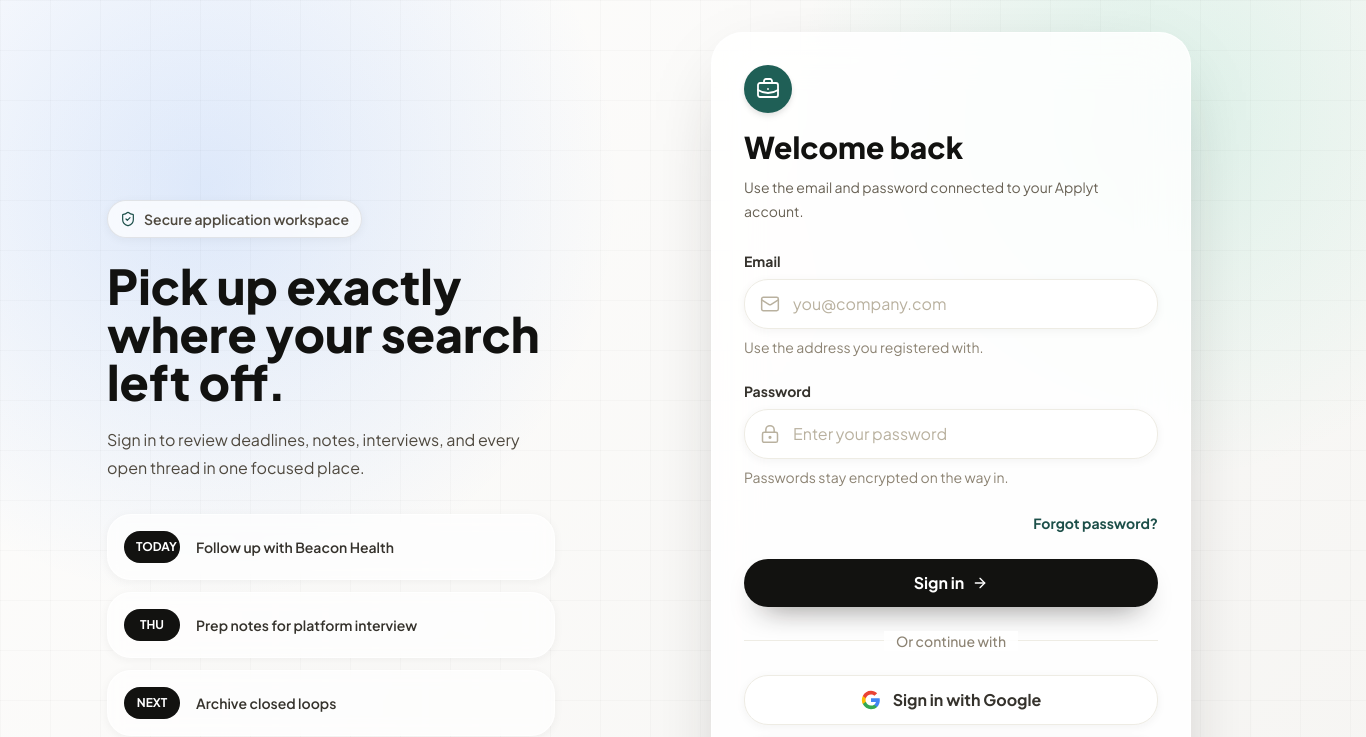
Test case: Login › rejects a malformed email
This screenshot has width=1366, height=737.
In the field with placeholder "you@company.com": (951, 304) [744, 278, 1158, 328], type "not-an-email"
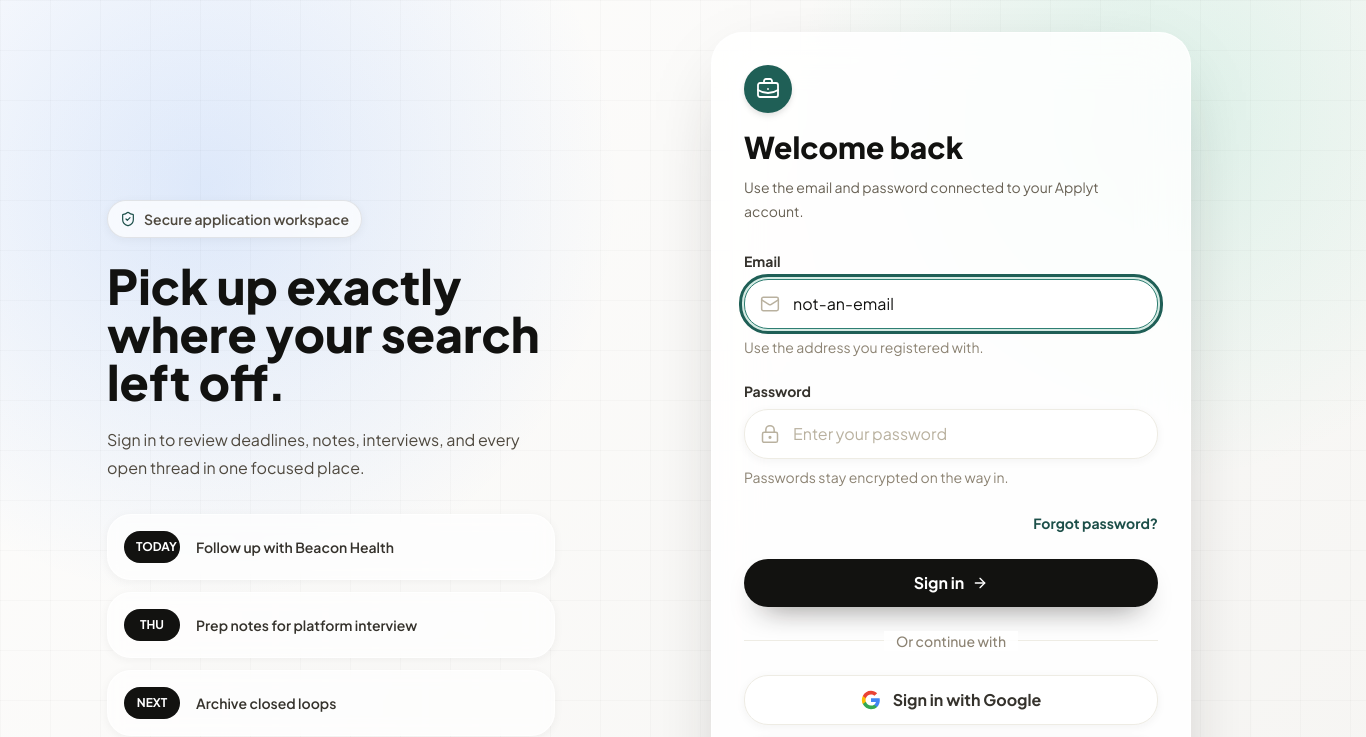
In the password field with placeholder "Enter your password": (951, 434) [744, 408, 1158, 458], type "secret"
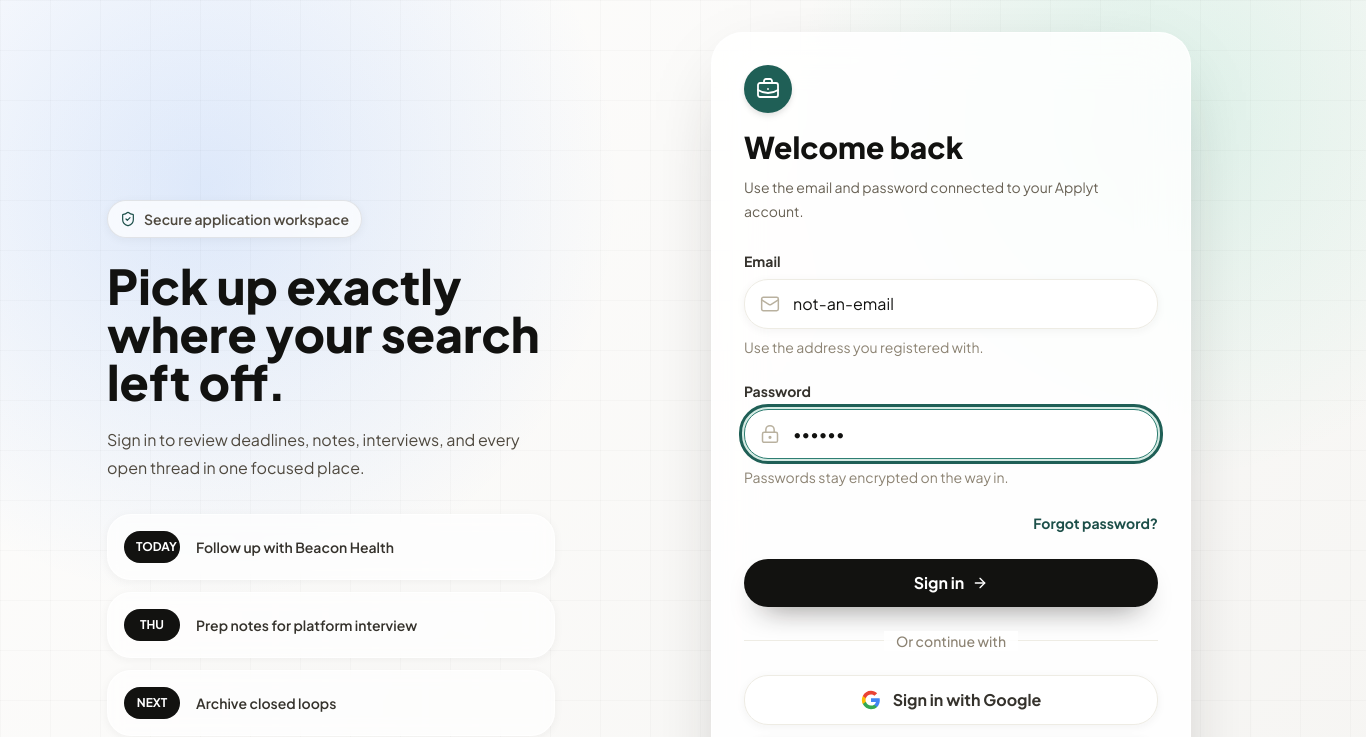
Submit the form, box [744, 250, 1158, 606]
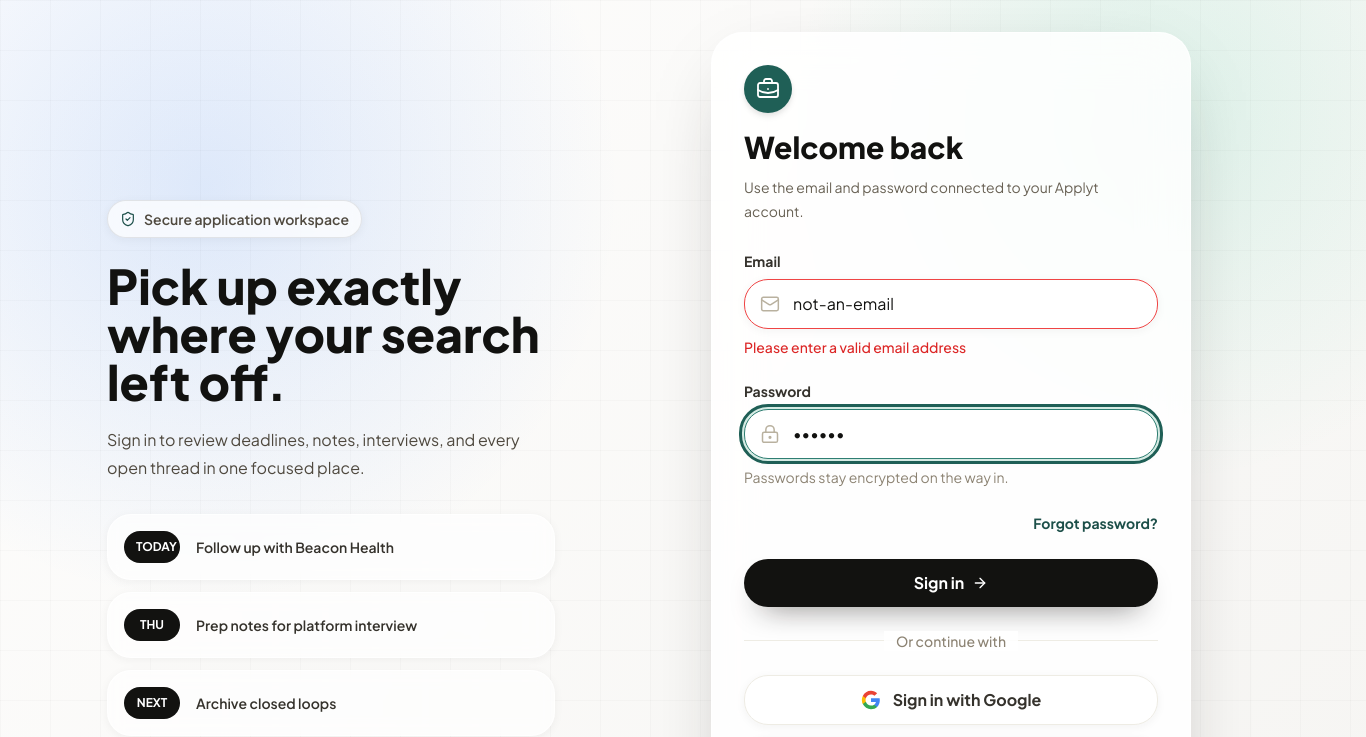
Expected: the text "Please enter a valid email address" is shown, [744, 338, 966, 356]
